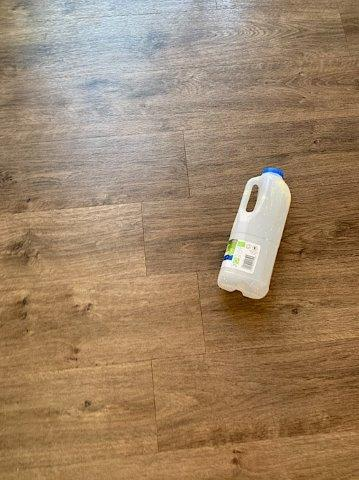botolplastik: (217, 168, 291, 298)
